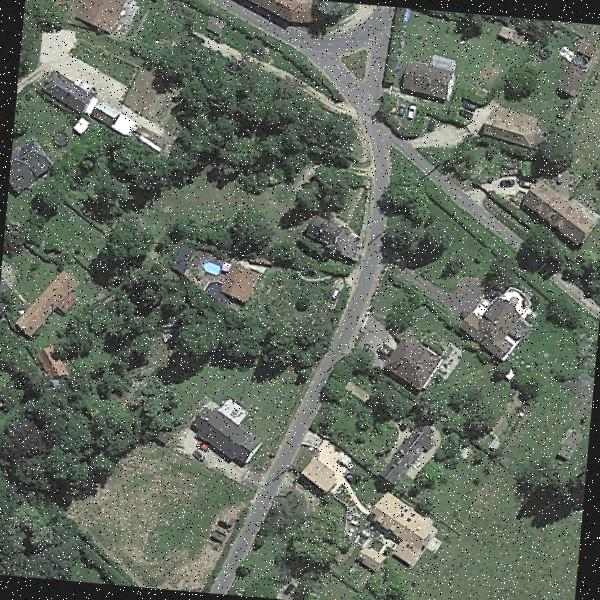Buildings: (368, 331, 445, 396), (182, 408, 271, 464), (515, 185, 599, 243), (471, 292, 538, 352), (21, 264, 72, 335), (371, 498, 430, 553), (8, 128, 53, 199), (390, 54, 458, 99), (308, 210, 358, 260), (482, 106, 540, 148), (227, 0, 307, 25), (217, 268, 263, 304), (76, 0, 131, 27)
